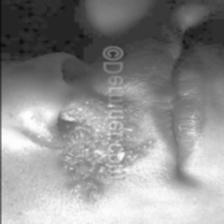Toxin: (66, 117, 108, 195), (122, 114, 152, 172)
